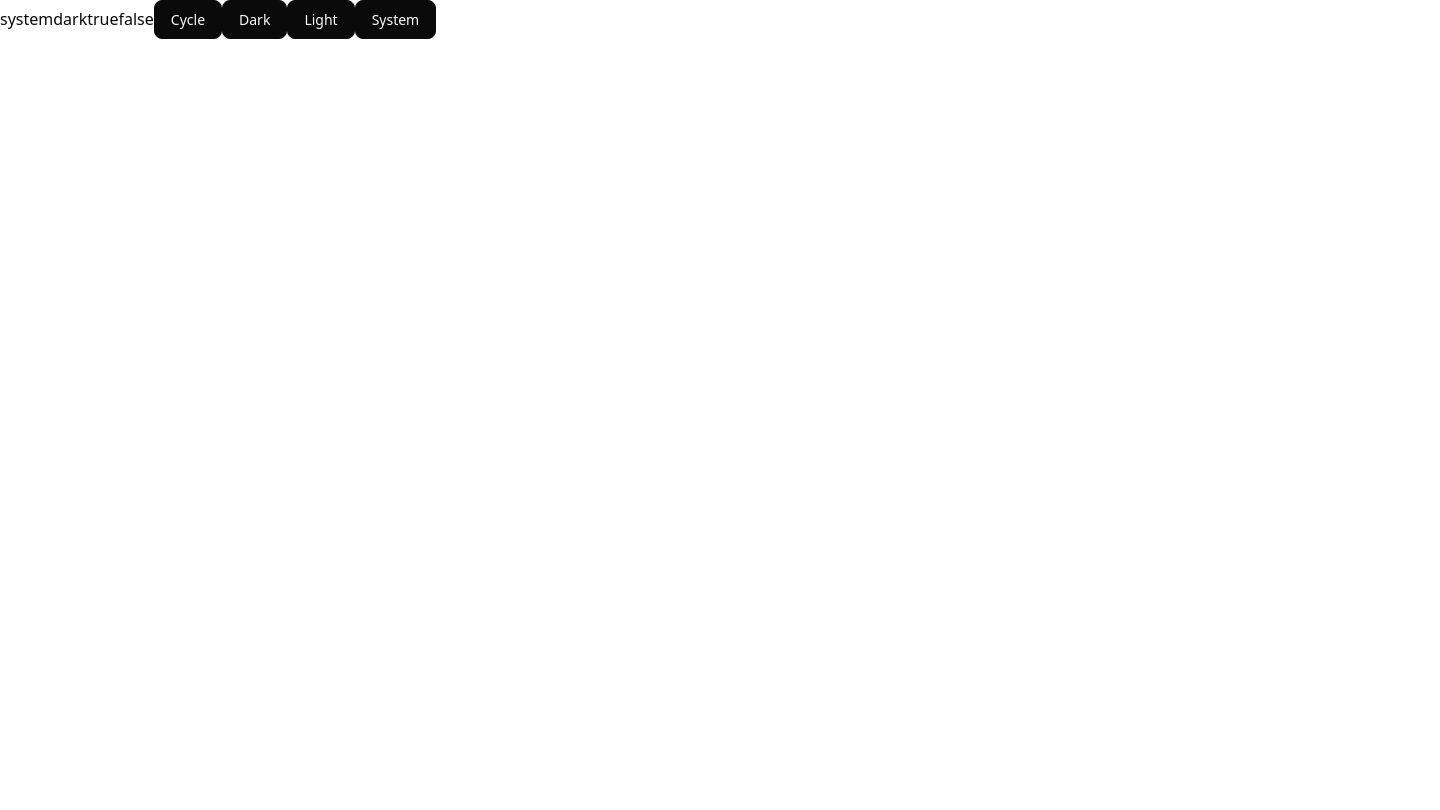
ThemeProvider › setMode › should set mode to system
This screenshot has width=1440, height=810.
Note: First set to dark
Click the button with test id "set-dark" at (255, 20), box [222,0,287,39]
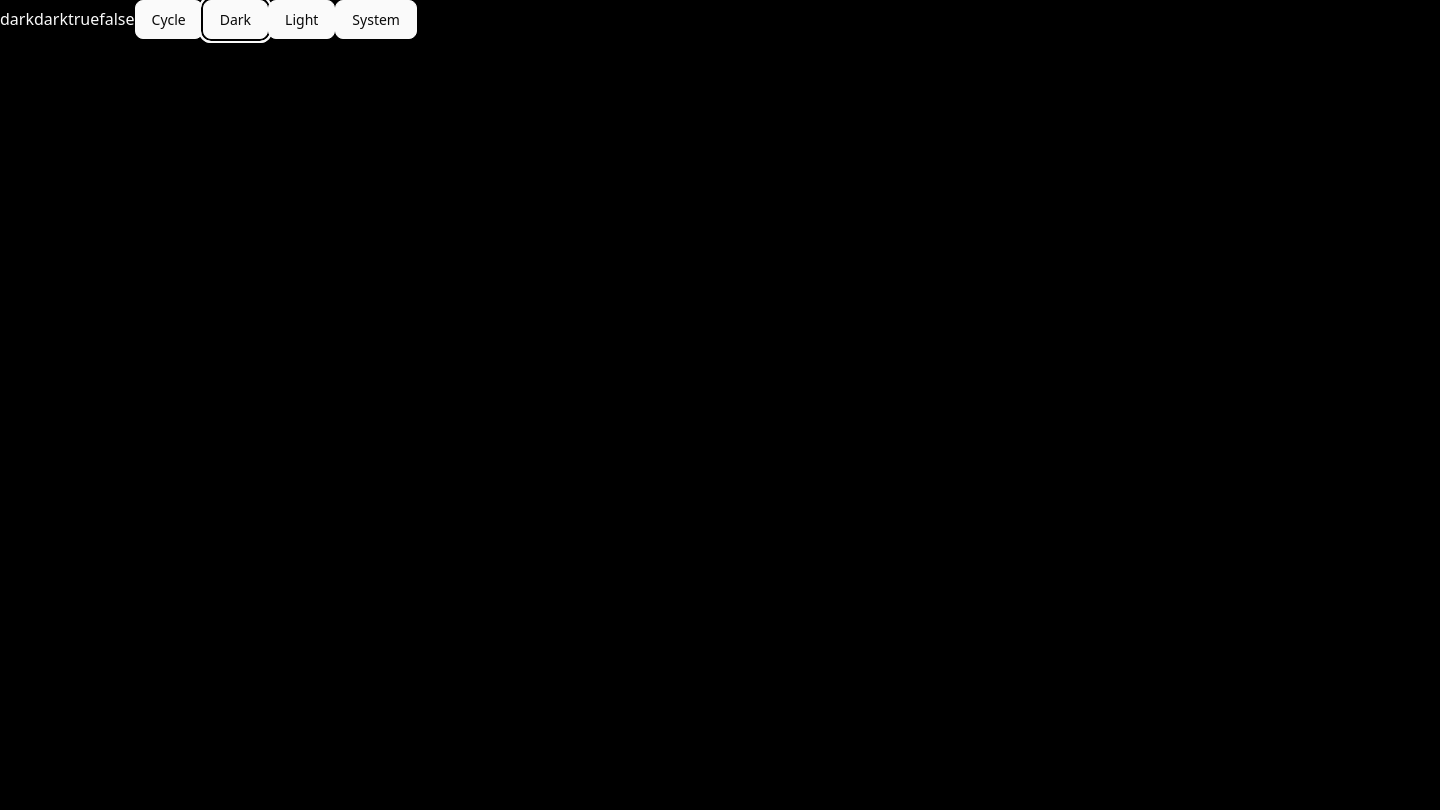
Expected: the text with test id "mode" reads "dark", [0,8,34,30]
Note: Then set back to system
Click the button with test id "set-system" at (376, 20), box [335,0,417,39]
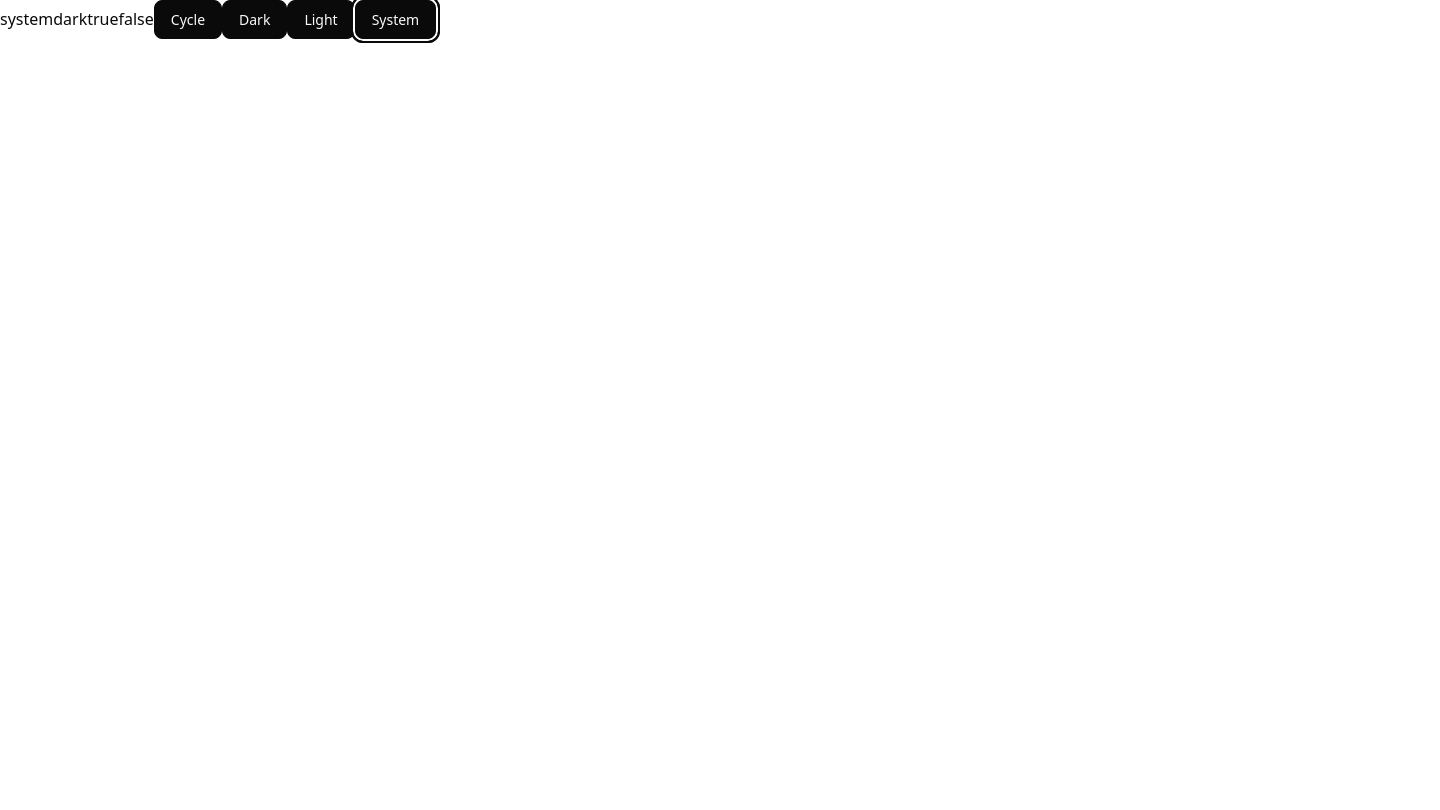
Expected: the text with test id "mode" reads "system", [0,8,53,30]
